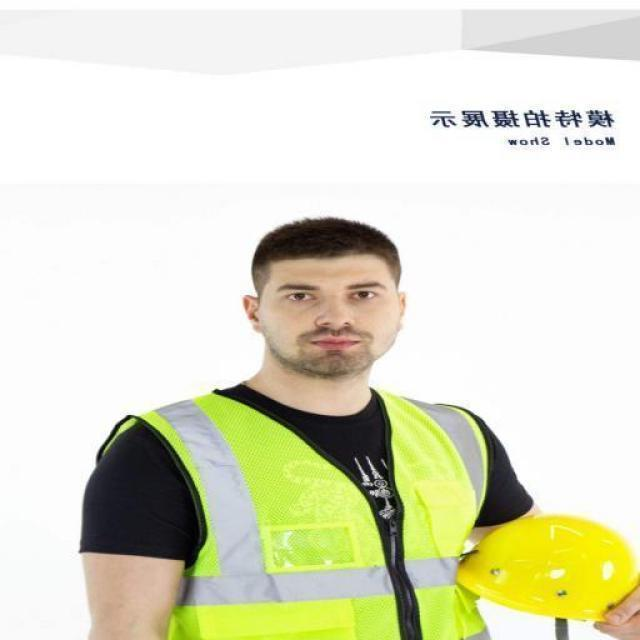vest: (154, 409, 476, 640)
